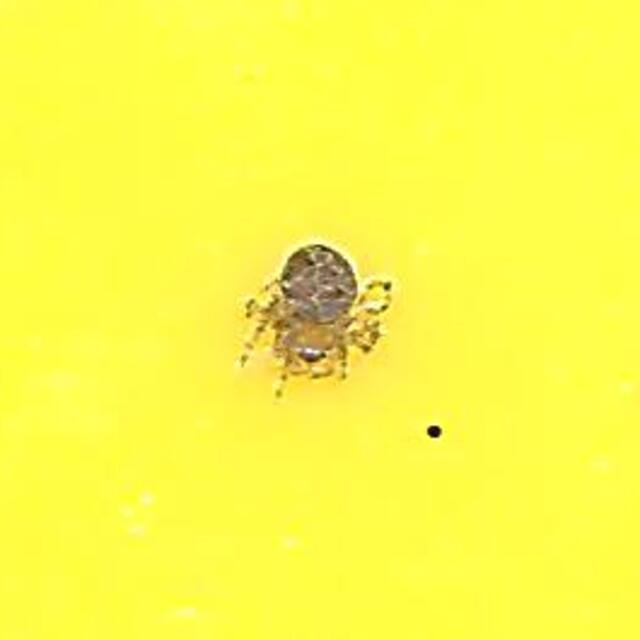Araneae: (242, 235, 398, 405)
